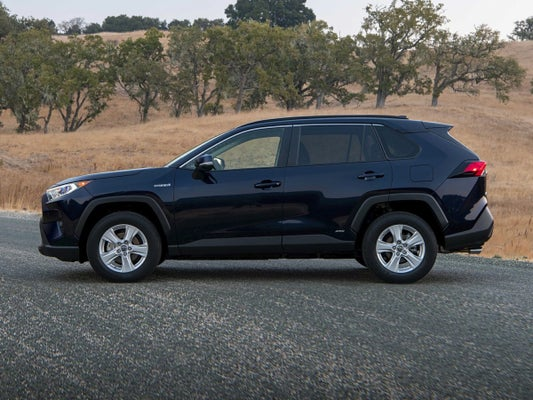Toyota RAV-4: (37, 114, 497, 284)
